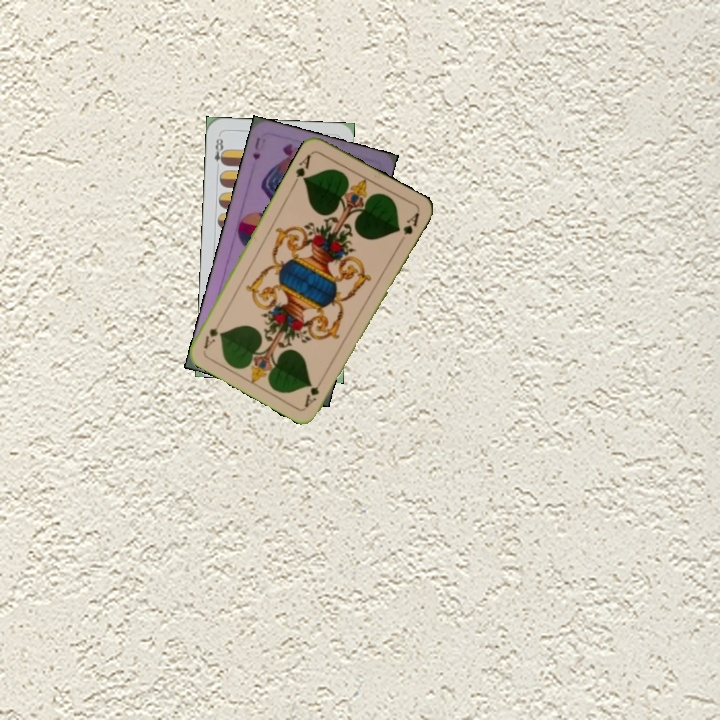E8: (210, 132, 228, 172)
GA: (300, 372, 327, 410), (290, 149, 315, 187)
SU: (249, 133, 263, 162)
